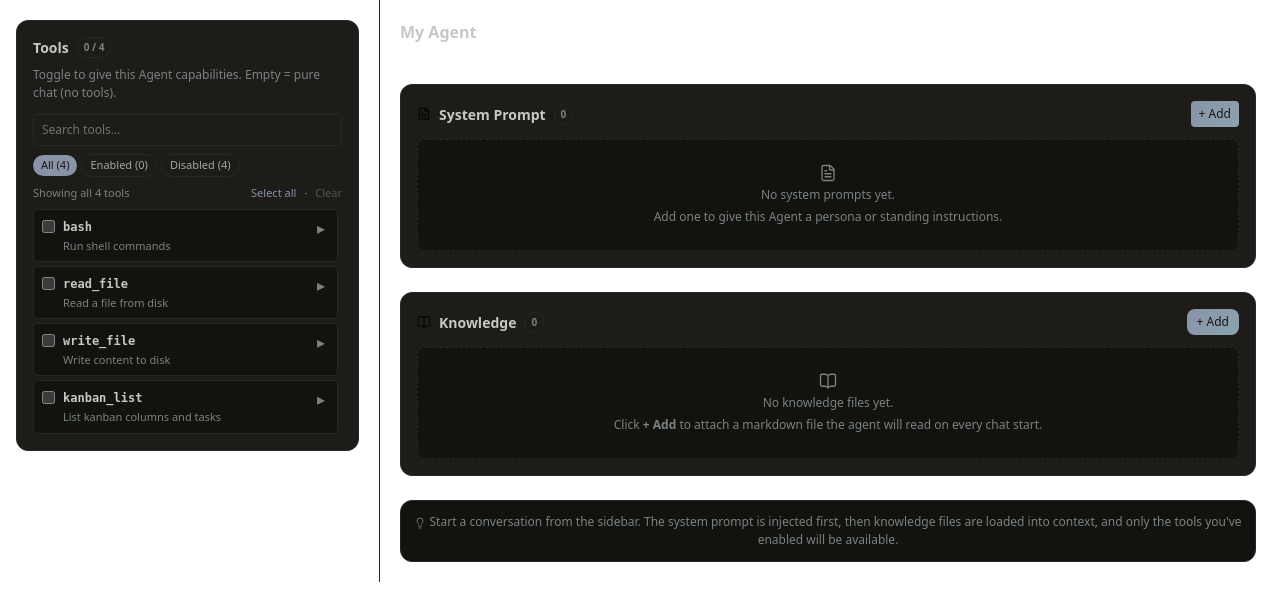
Scenario: AgentView › search filter › filters the tools list by name (case-insensitive)
Type "BASH" into the field with test id "agent-tools-search" at (188, 130), box [33,114,342,146]
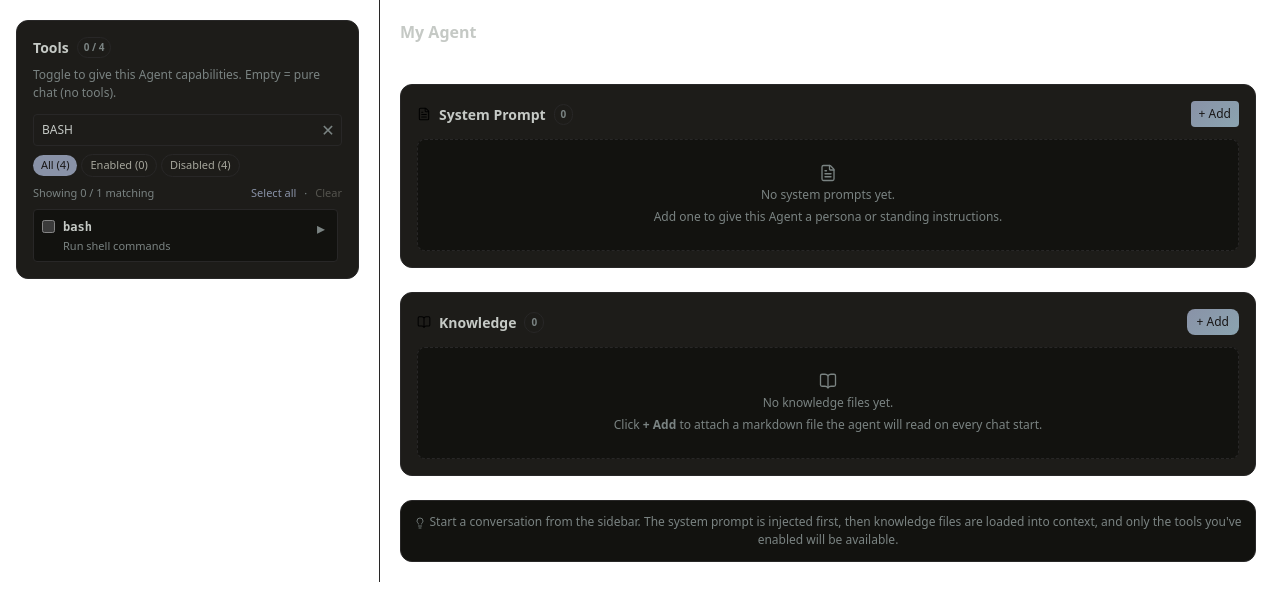
Check: the list item with test id "agent-tool-item" shows "bash", box [63,220,92,234]
Check: the number of list items with test id "agent-tool-item" is 1, box [33,209,338,262]
